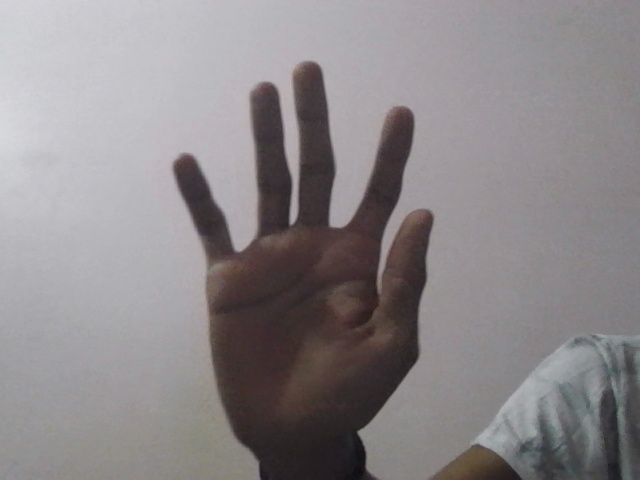hello: (136, 42, 476, 454)
